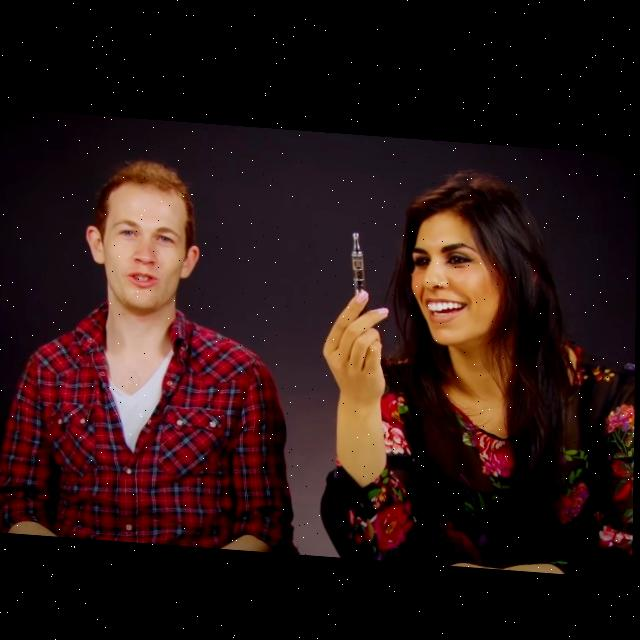vape: (351, 227, 367, 291)
